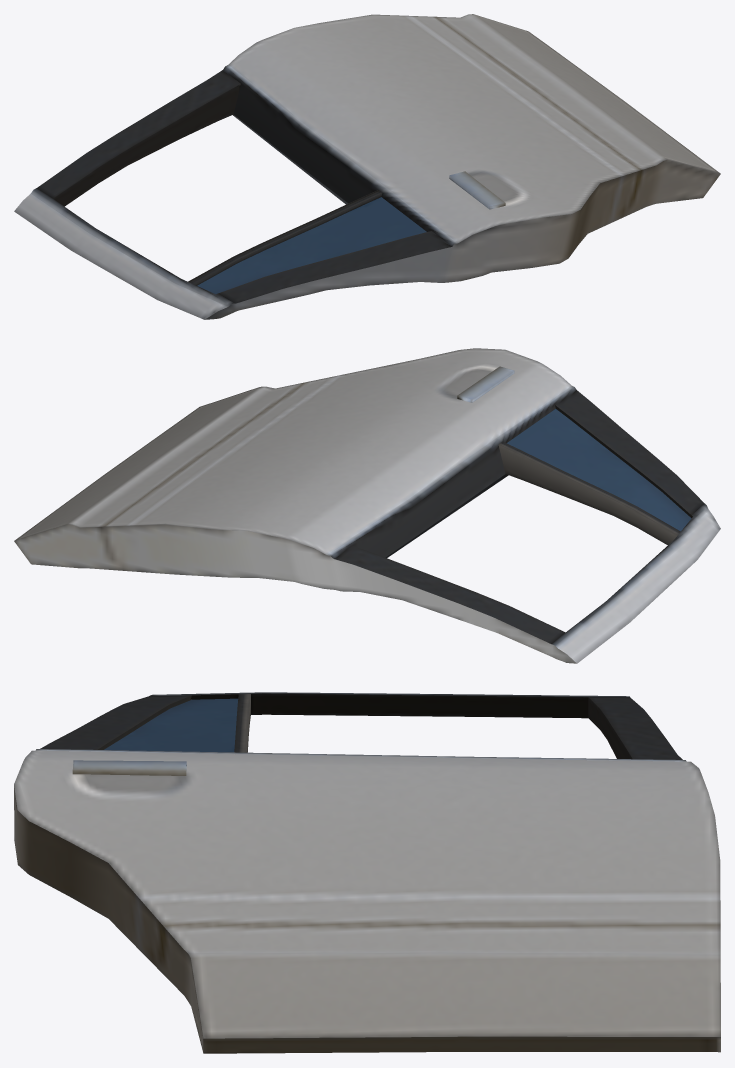
Rendered from FordCrownVic92RearDoor_WorldItem.fbx.
The picture shows the model from 3 angles, top to bottom: view 1: azimuth 30°, elevation 25°; view 2: azimuth 150°, elevation 25°; view 3: azimuth 270°, elevation 25°; orthographic projection. The views are drawn at different scales.
Visible parts, largest first — view 1: RearRightDoor_obj; view 2: RearRightDoor_obj; view 3: RearRightDoor_obj.
Boxes of the visible parts, x1,y1,x2,y2 form: RearRightDoor_obj: (14, 14, 720, 319); RearRightDoor_obj: (14, 348, 720, 663); RearRightDoor_obj: (14, 692, 720, 1053).
Size of the model in its own units: 2.15 by 0.3414 by 1.78.
